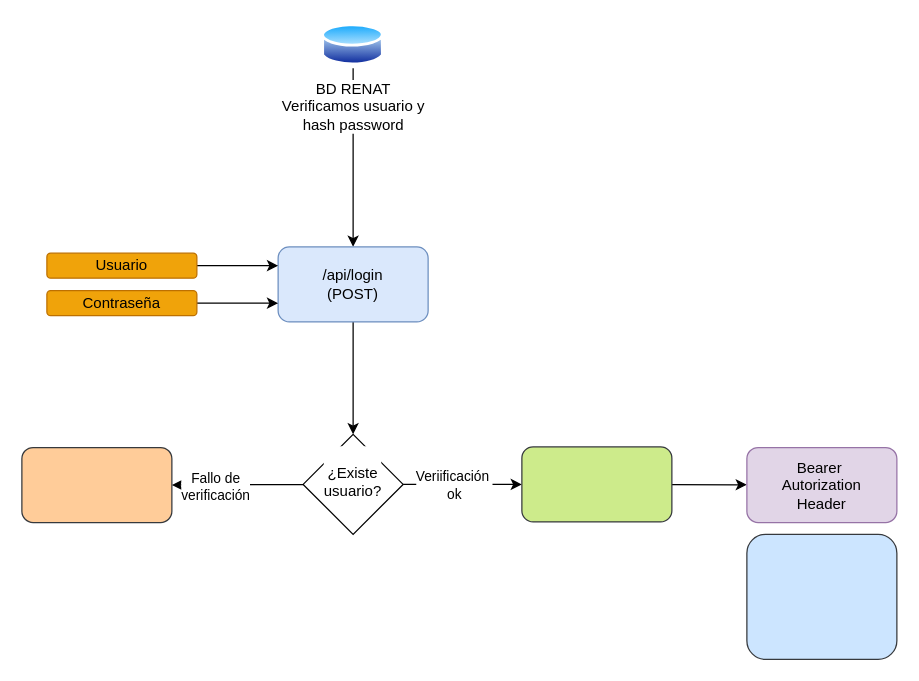
The diagram is 919 pixels wide and 681 high, and some of its shapes have lost their labels. Each missing label, with the centre of its shape:
"/api/protected (GET) Comprobamos la validez del token" belongs at (x=821, y=596).
"No encontrado (status 400)" belongs at (x=96, y=484).
"Token (status 200)" belongs at (x=596, y=484).
